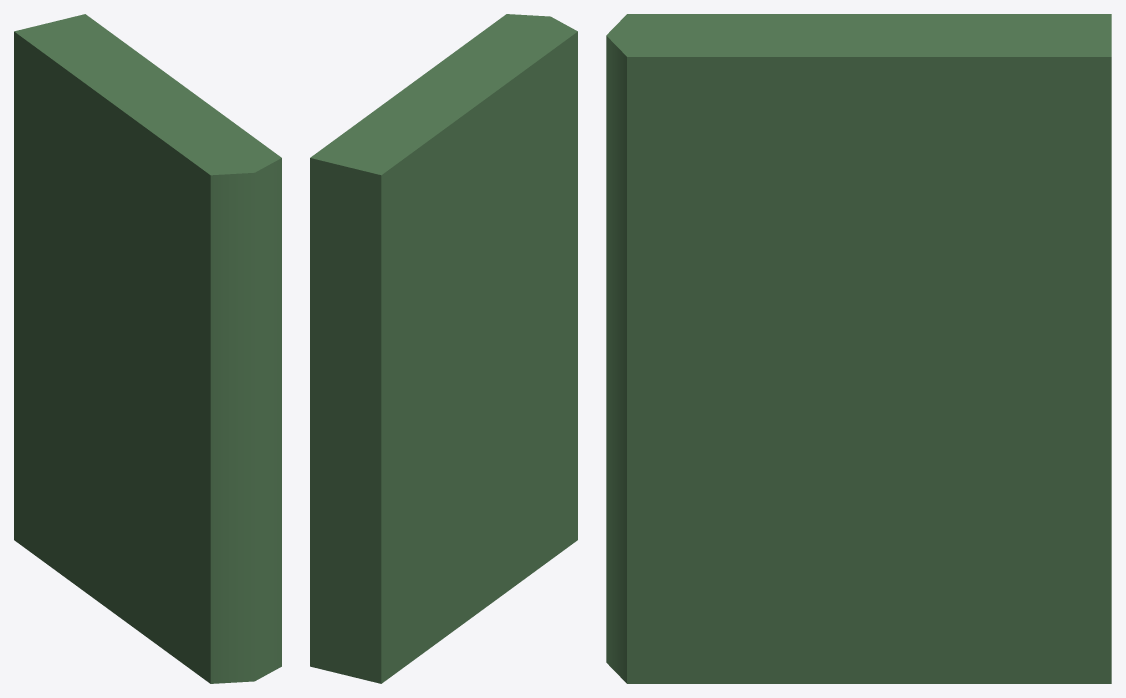
The model's file is Libro4.fbx.
The picture shows the model from 3 angles, left to right: view 1: azimuth 30°, elevation 25°; view 2: azimuth 150°, elevation 25°; view 3: azimuth 270°, elevation 25°; orthographic projection. The views are drawn at different scales.
Visible parts, largest first — view 1: Libro4; view 2: Libro4; view 3: Libro4.
Boxes of the visible parts, x1=… form: Libro4: x1=14, y1=14, x2=281, y2=683; Libro4: x1=310, y1=14, x2=577, y2=683; Libro4: x1=606, y1=14, x2=1111, y2=683.
Bounding box in the file's own units: 3.26 × 22.19 × 16.21.
